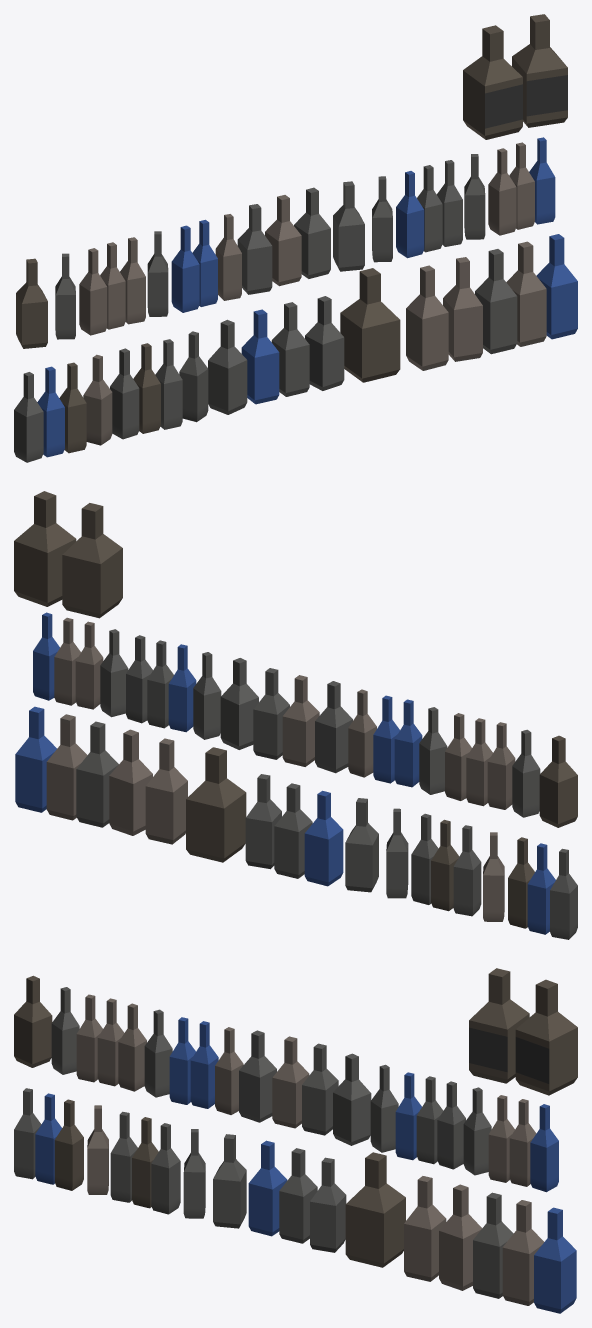
The model's file is AlcoholShelf_01.fbx.
3 renders of one model, top to bottom at view 1: azimuth 30°, elevation 25°; view 2: azimuth 150°, elevation 25°; view 3: azimuth 330°, elevation 25°, orthographic.
Parts seen in each view (by area): view 1: ShelfAlcohol_01; view 2: ShelfAlcohol_01; view 3: ShelfAlcohol_01.
Boxes of the visible parts, x1,y1,x2,y2 form: ShelfAlcohol_01: (14, 14, 577, 462); ShelfAlcohol_01: (14, 491, 577, 939); ShelfAlcohol_01: (14, 968, 577, 1313).
Size of the model in its own units: 861 by 469 by 70.27.
